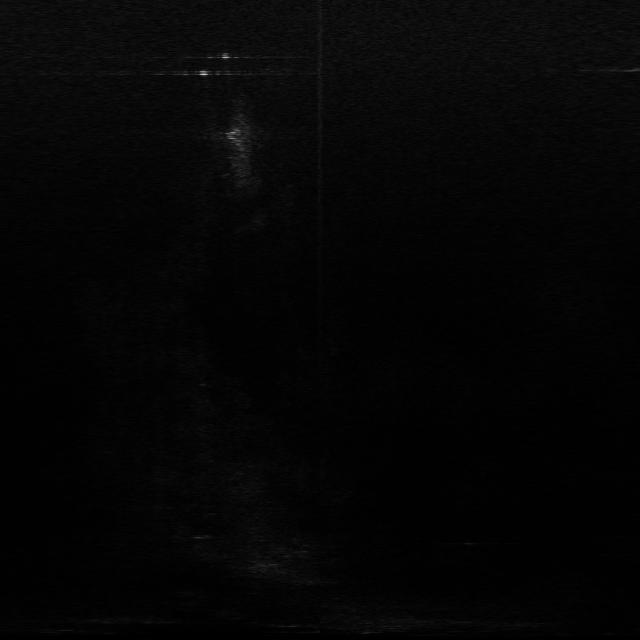rov: (223, 126, 251, 151)
